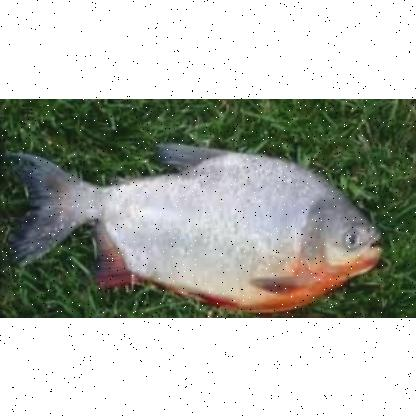ikan-pacu: (15, 142, 384, 312)
